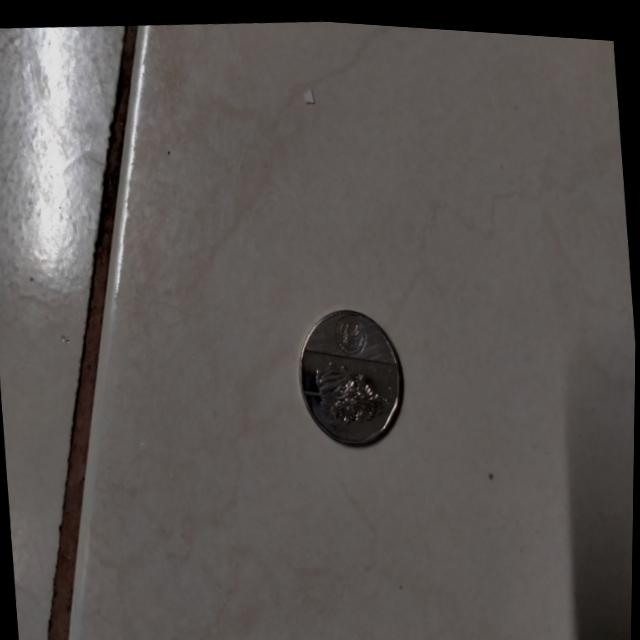10_New_Back: (303, 304, 395, 432)
